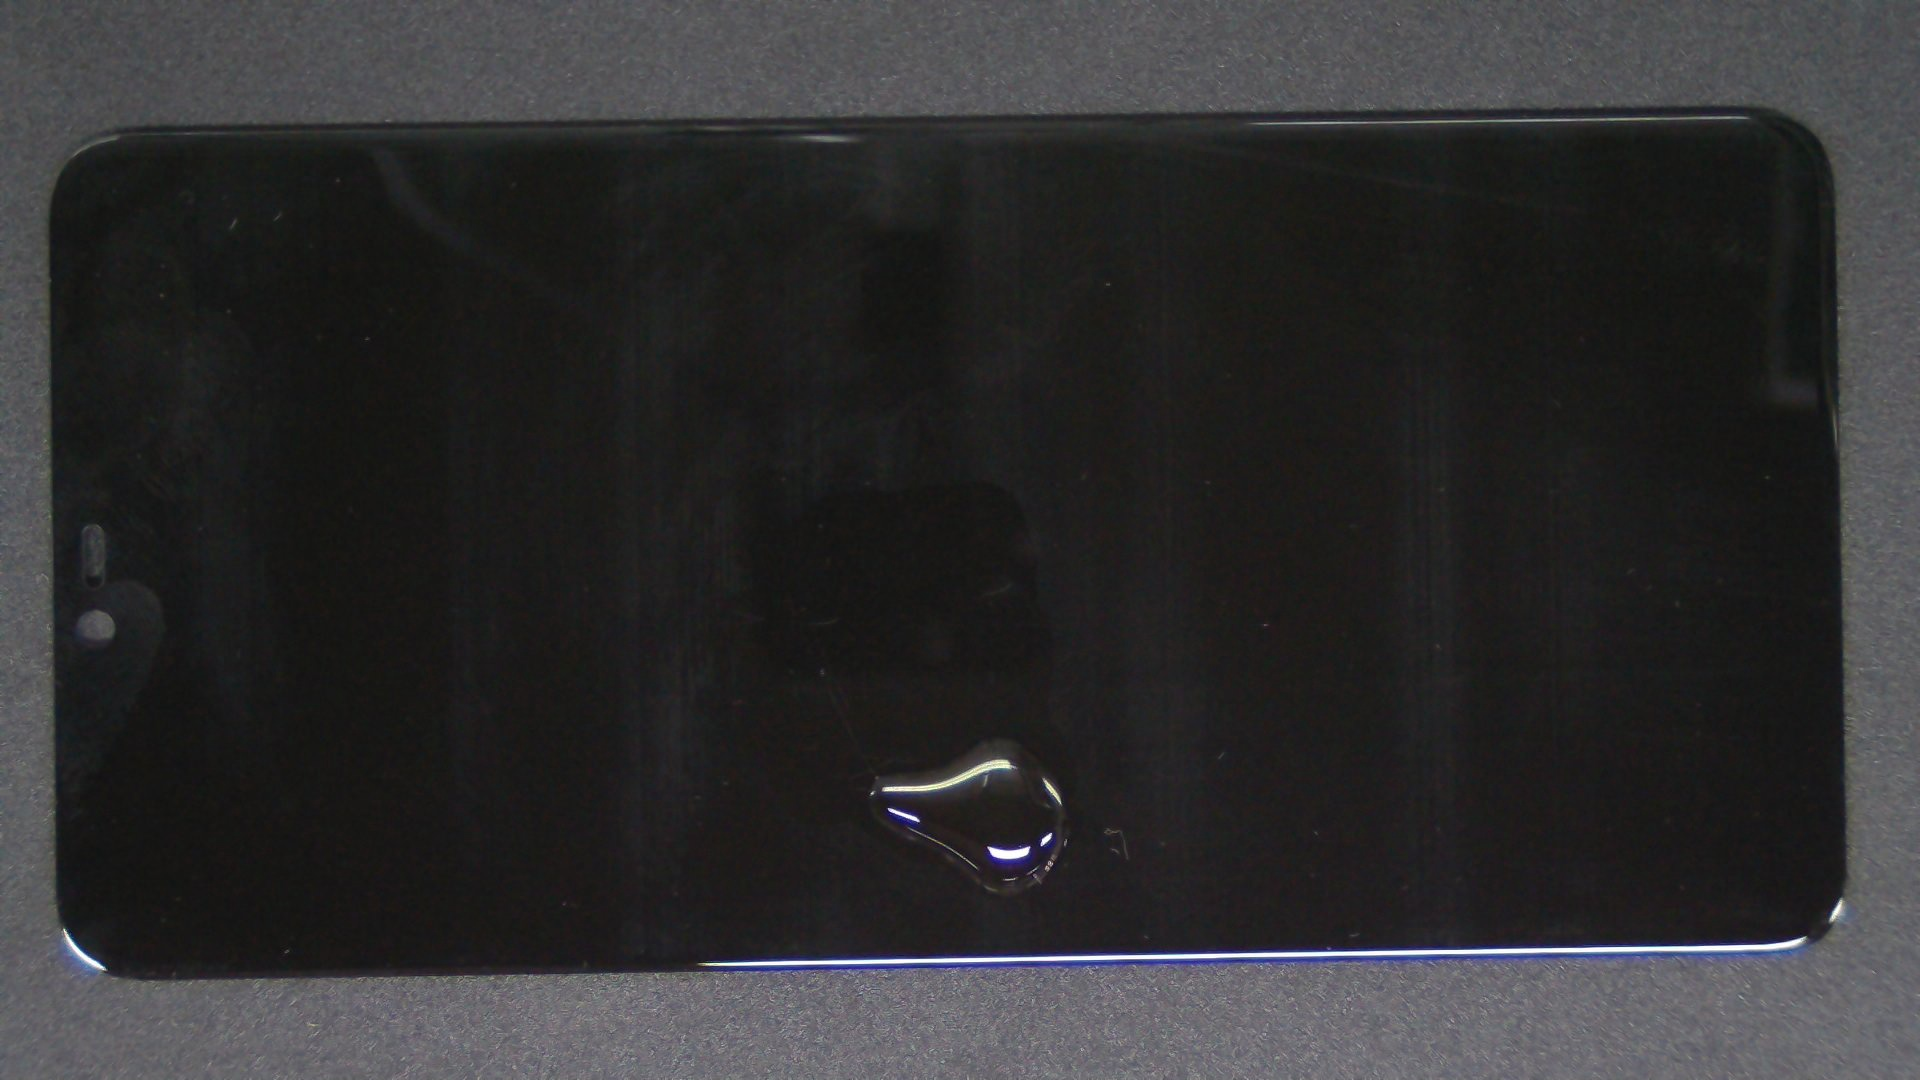oil: (497, 368, 1489, 1080)
